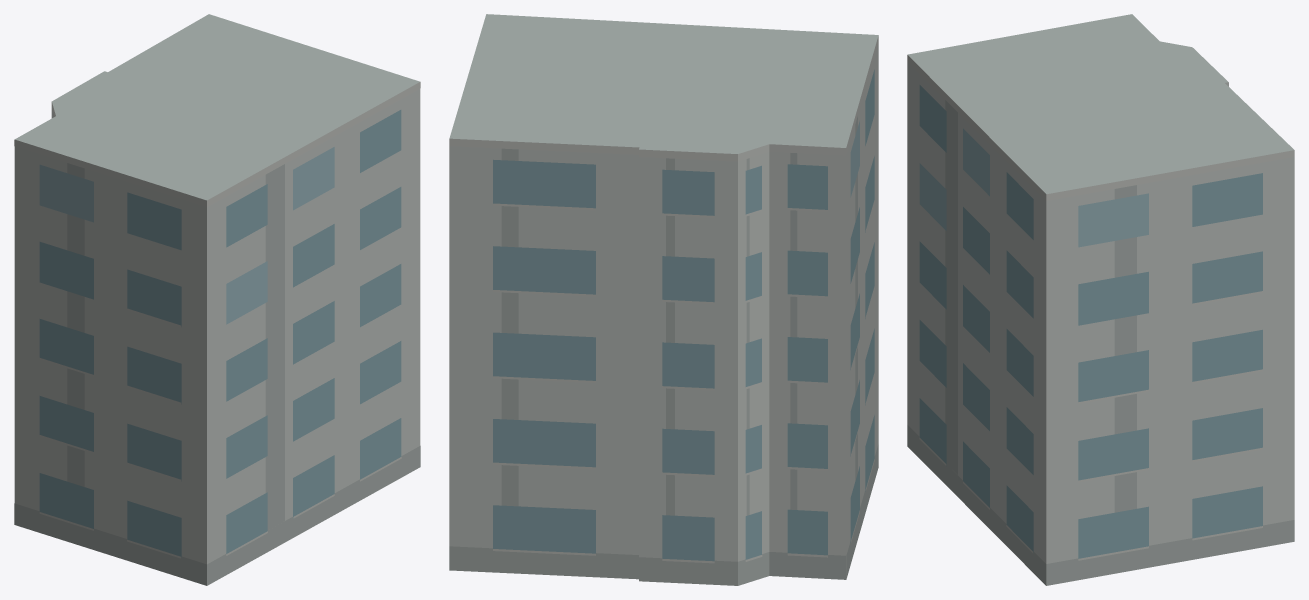
Rendered from survey-upis-32678160.glb.
The picture shows the model from 3 angles, left to right: view 1: azimuth 30°, elevation 25°; view 2: azimuth 150°, elevation 25°; view 3: azimuth 270°, elevation 25°; orthographic projection. The views are drawn at different scales.
Visible parts, largest first — view 1: survey-upis-32678160.tmp; view 2: survey-upis-32678160.tmp; view 3: survey-upis-32678160.tmp.
Part boxes in pixels (left/top/right/bottom): survey-upis-32678160.tmp: left=14, top=14, right=420, bottom=585; survey-upis-32678160.tmp: left=449, top=14, right=878, bottom=585; survey-upis-32678160.tmp: left=907, top=14, right=1294, bottom=585.
Bounding box in the file's own units: 13.68 × 13.85 × 12.42.
